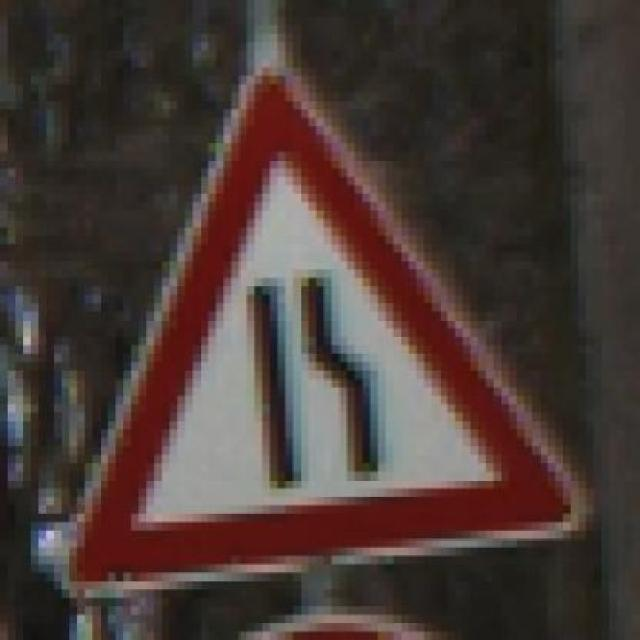-Road narrows on right: (39, 42, 602, 606)
